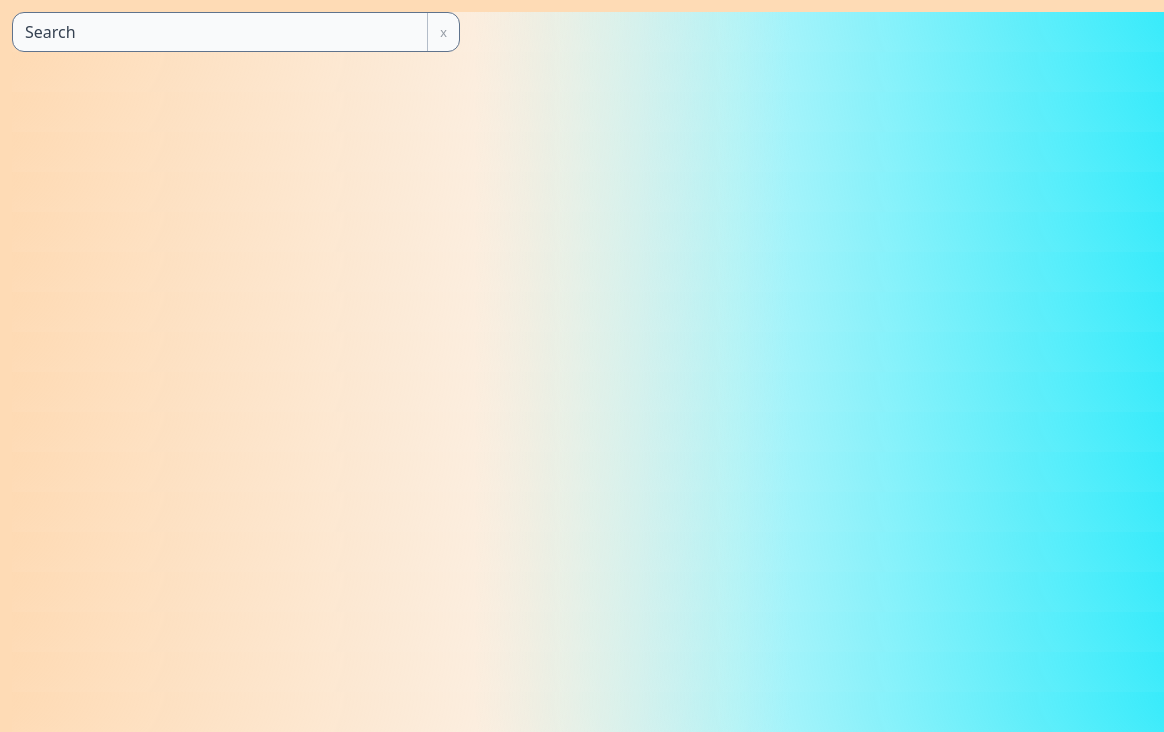
Scenario: SearchInput › очистка › кнопка Clear отключена при пустом поле и включена при значении
Check: the button named "Clear search" is disabled, box [427,13,459,51]
In the search field named "Find": [220, 32] box [13,13,427,51], type "a"
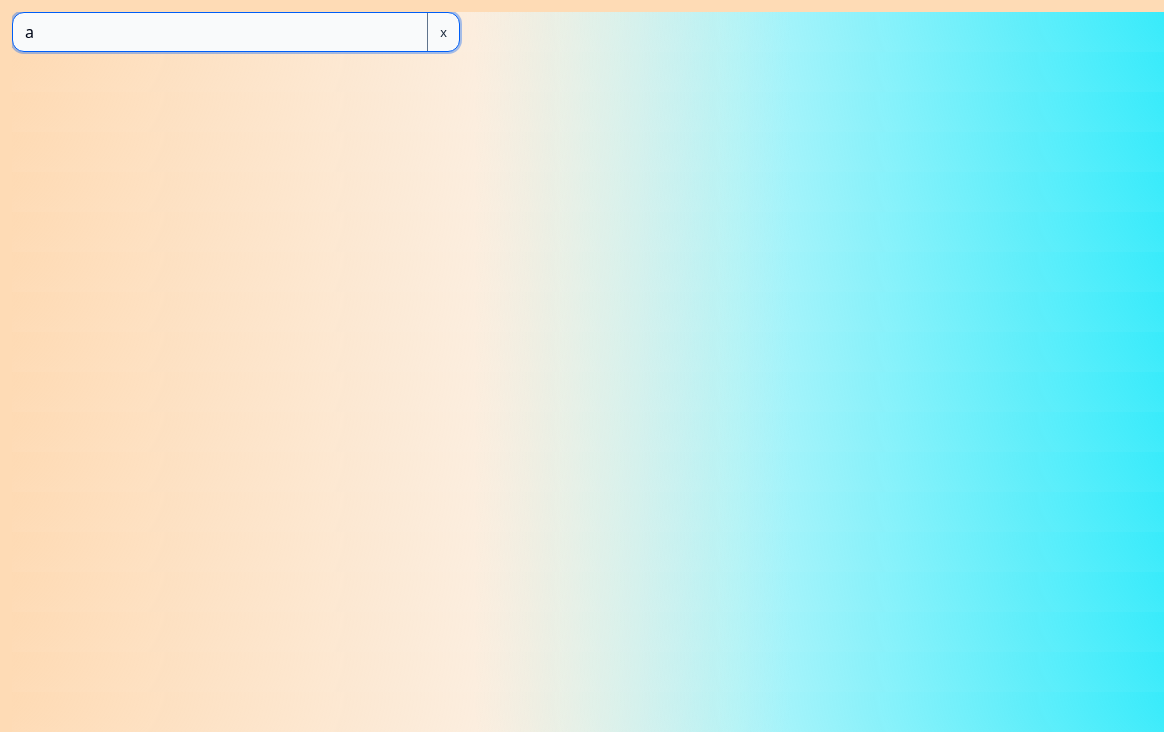
Check: the button named "Clear search" is enabled, box [427,13,459,51]
